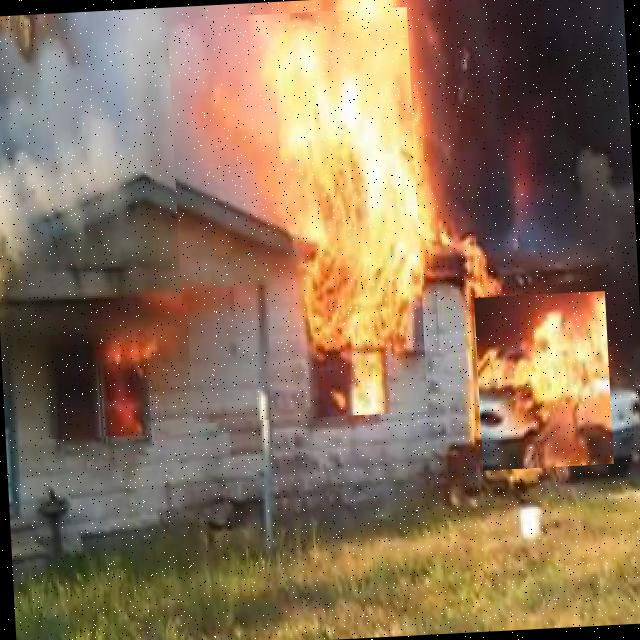fire: (167, 7, 428, 424), (474, 291, 614, 471), (34, 305, 194, 440)
